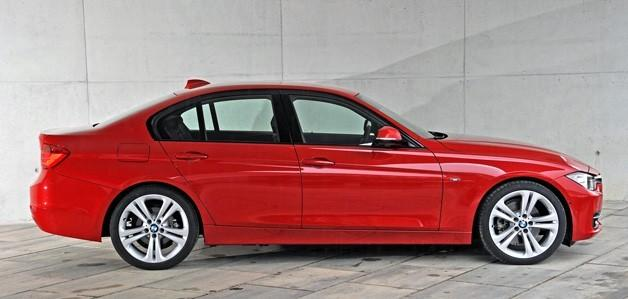Sedan: (29, 77, 604, 270)
